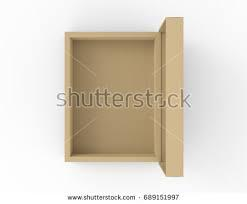Cardboard: (44, 10, 232, 186)
